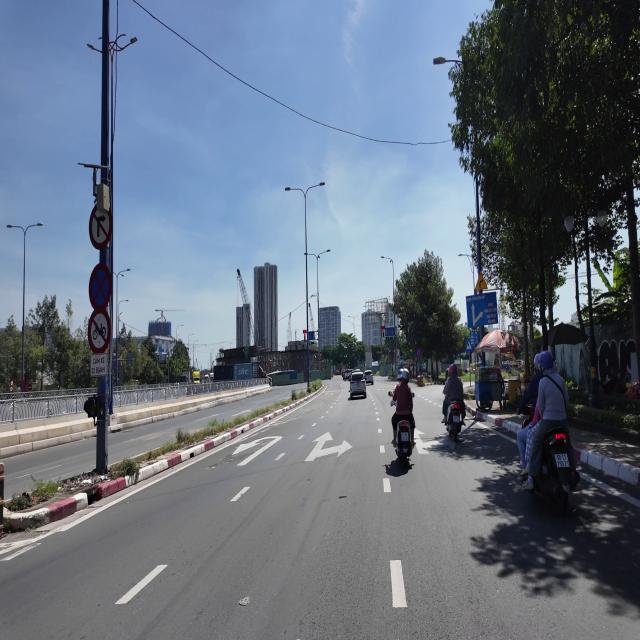car: (350, 371, 366, 398), (365, 370, 373, 384)
motorcycle: (534, 428, 579, 514), (396, 420, 412, 468), (446, 401, 462, 441)
